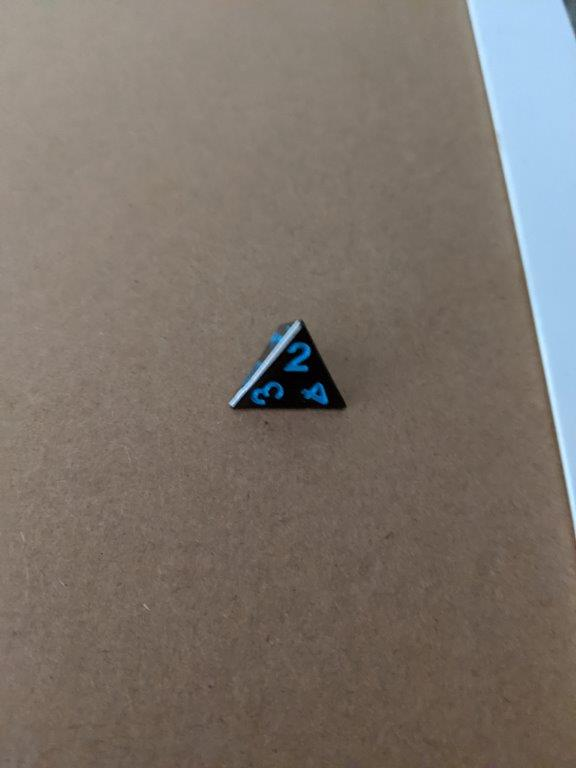d4-2: (223, 317, 353, 420)
